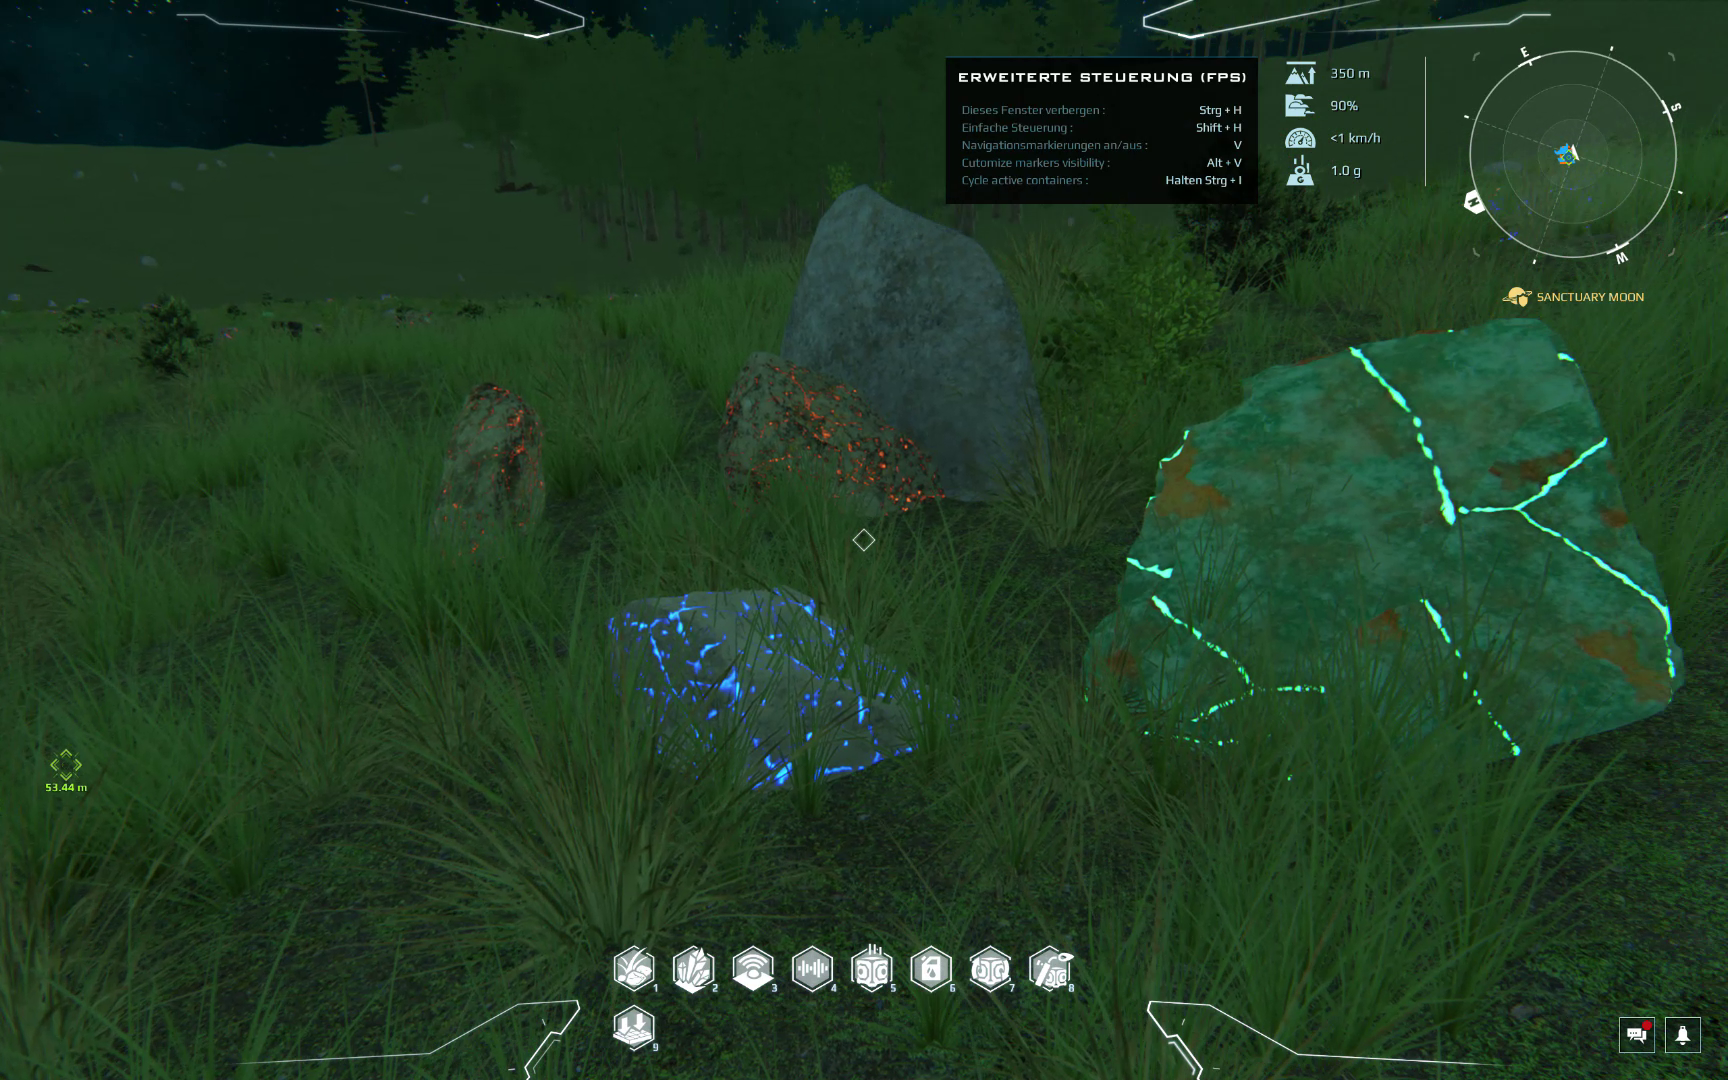Ore: (1074, 314, 1684, 771), (593, 581, 958, 793), (715, 351, 950, 523), (428, 379, 550, 562)
